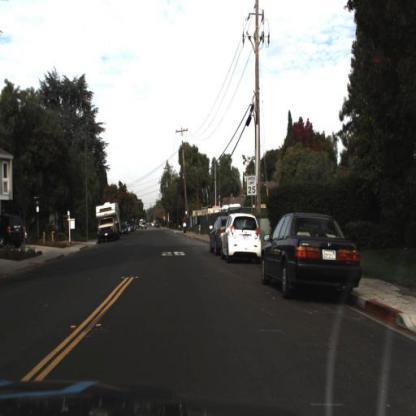car: (260, 205, 367, 302), (219, 206, 262, 269), (219, 214, 267, 263), (206, 205, 224, 258)
pedestrian: (183, 217, 189, 234)
truck: (93, 203, 122, 244)
